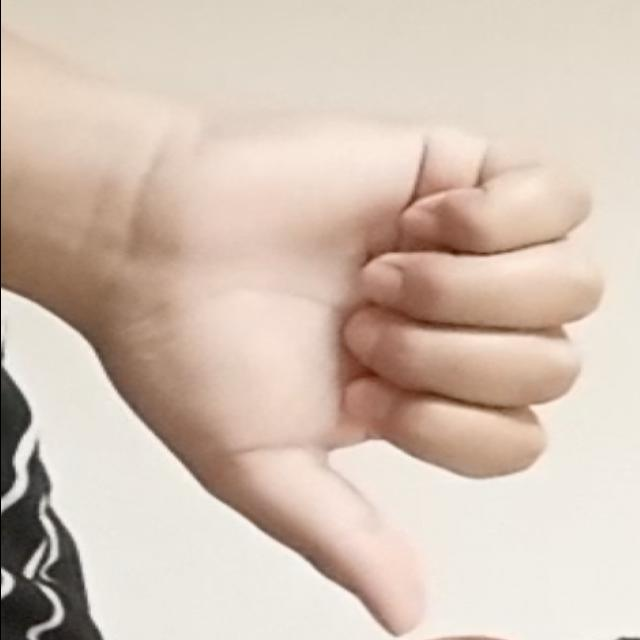A: (136, 52, 610, 636)
